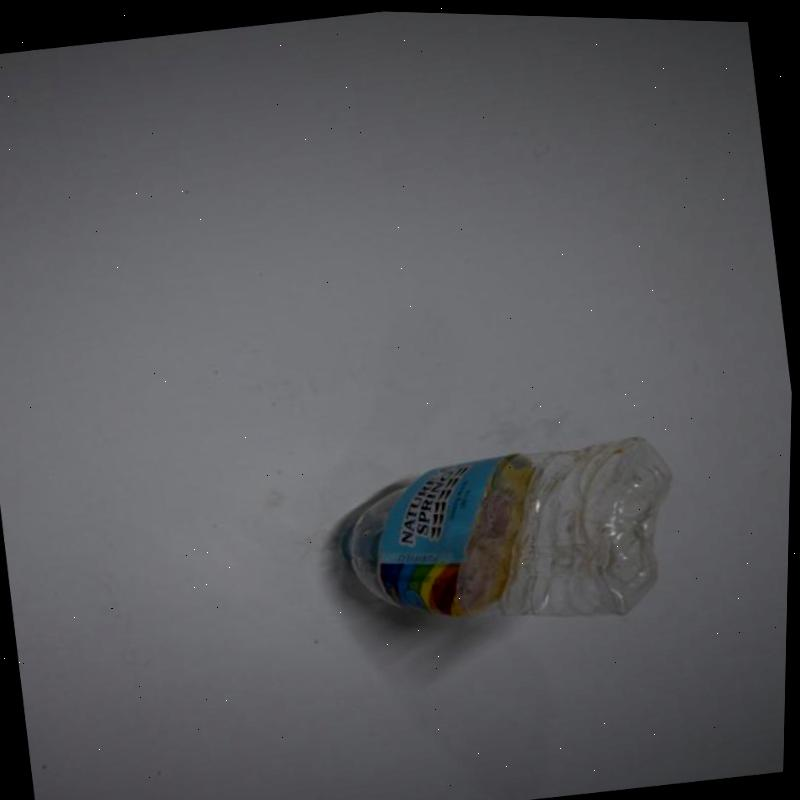botella: (320, 412, 703, 670)
